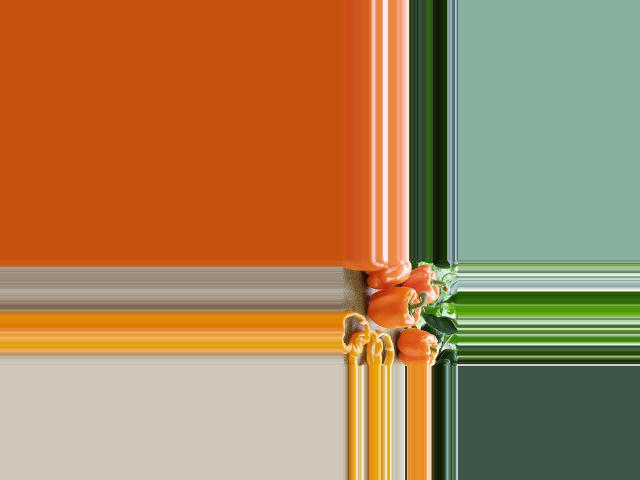bell_pepper: (363, 260, 412, 288)
